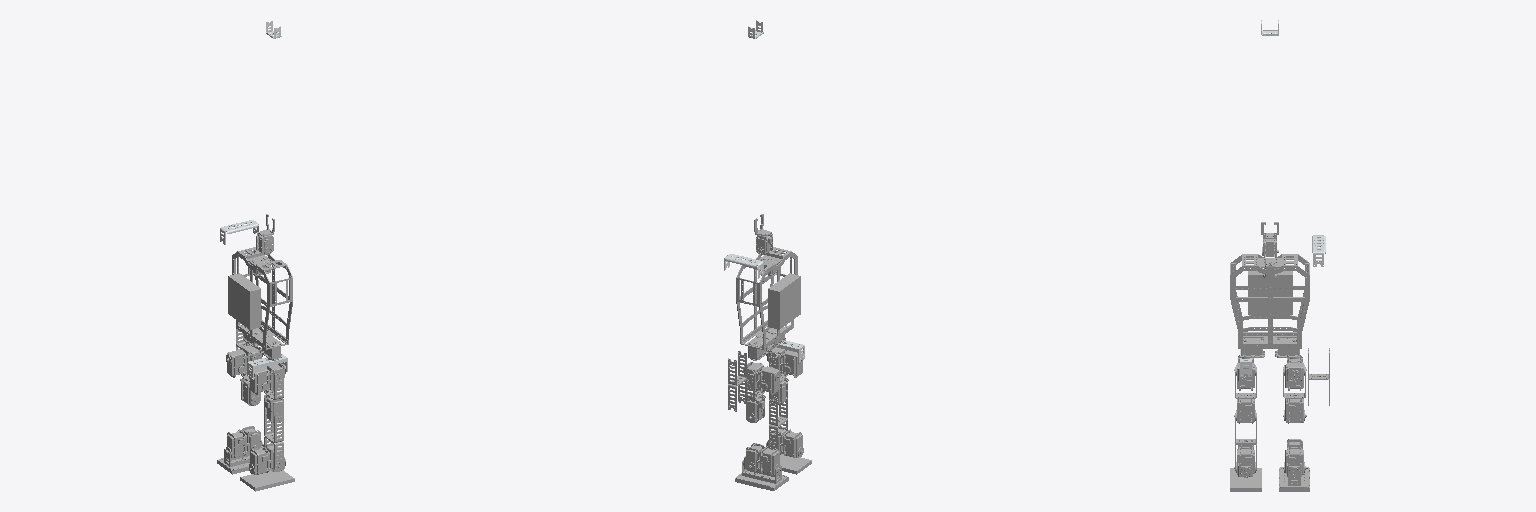
The robot description file, URDF, robot "biped":
<robot
  name="biped">
  <link
    name="torso">
    <inertial>
      <origin
        xyz="-0.032427 -7.3918E-11 -0.035454"
        rpy="0 0 0" />
      <mass
        value="1.5243" />
      <inertia
        ixx="0.0065088"
        ixy="1.2448E-11"
        ixz="0.00074863"
        iyy="0.0067767"
        iyz="1.2924E-11"
        izz="0.0023018" />
    </inertial>
    <visual>
      <origin
        xyz="0 0 0"
        rpy="0 0 0" />
      <geometry>
        <mesh
          filename="package://meshes/meshes_biped/torso.STL" />
      </geometry>
      <material
        name="">
        <color
          rgba="0.75294 0.75294 0.75294 1" />
      </material>
    </visual>
    <collision>
      <origin
        xyz="0 0 0"
        rpy="0 0 0" />
      <geometry>
        <mesh
          filename="package://meshes/meshes_biped/torso.STL" />
      </geometry>
    </collision>
    <contact>
      <lateral_friction value="1.0"/>
      <restitution value="0.5"/>
    </contact>
  </link>
  <link
    name="head_p">
    <inertial>
      <origin
        xyz="-5.5511E-17 5.5511E-17 -0.023536"
        rpy="0 0 0" />
      <mass
        value="0.0091975" />
      <inertia
        ixx="0"
        ixy="0"
        ixz="0"
        iyy="0"
        iyz="0"
        izz="0" />
    </inertial>
    <visual>
      <origin
        xyz="0 0 0"
        rpy="0 0 0" />
      <geometry>
        <mesh
          filename="package://meshes/meshes_biped/head_p.STL" />
      </geometry>
      <material
        name="">
        <color
          rgba="0.89804 0.91765 0.92941 1" />
      </material>
    </visual>
    <collision>
      <origin
        xyz="0 0 0"
        rpy="0 0 0" />
      <geometry>
        <mesh
          filename="package://meshes/meshes_biped/head_p.STL" />
      </geometry>
    </collision>
    <contact>
      <lateral_friction value="1.0"/>
      <restitution value="0.5"/>
    </contact>
  </link>
  <joint
    name="head_p"
    type="fixed">
    <origin
      xyz="0.0075 0 0.12157"
      rpy="6.713E-16 6.9212E-18 1.1102E-16" />
    <parent
      link="torso" />
    <child
      link="head_p" />
    <axis
      xyz="0 0 1" />
    <limit
      lower="-1.57"
      upper="1.57"
      effort="16"
      velocity="3" />
  </joint>
  <link
    name="head_t">
    <inertial>
      <origin
        xyz="0.00078184 2.0234E-05 0.016088"
        rpy="0 0 0" />
      <mass
        value="0.084099" />
      <inertia
        ixx="1.5435E-05"
        ixy="1.3296E-09"
        ixz="-2.5332E-06"
        iyy="1.5134E-05"
        iyz="5.1455E-08"
        izz="1.5241E-06" />
    </inertial>
    <visual>
      <origin
        xyz="0 0 0"
        rpy="0 0 0" />
      <geometry>
        <mesh
          filename="package://meshes/meshes_biped/head_t.STL" />
      </geometry>
      <material
        name="">
        <color
          rgba="0.75294 0.75294 0.75294 1" />
      </material>
    </visual>
    <collision>
      <origin
        xyz="0 0 0"
        rpy="0 0 0" />
      <geometry>
        <mesh
          filename="package://meshes/meshes_biped/head_t.STL" />
      </geometry>
    </collision>
    <contact>
      <lateral_friction value="1.0"/>
      <restitution value="0.5"/>
    </contact>
  </link>
  <joint
    name="j_head_t"
    type="fixed">
    <origin
      xyz="0 -0.00025 0"
      rpy="1.4381E-16 -9.993E-17 -7.2164E-16" />
    <parent
      link="head_p" />
    <child
      link="head_t" />
    <axis
      xyz="0 1 0" />
    <limit
      lower="-1.57"
      upper="1.57"
      effort="16"
      velocity="3" />
  </joint>
  <link
    name="leg_r_hip_y">
    <inertial>
      <origin
        xyz="-0.02001 -2.7756E-17 0.028495"
        rpy="0 0 0" />
      <mass
        value="0.044523" />
      <inertia
        ixx="0"
        ixy="0"
        ixz="0"
        iyy="0"
        iyz="0"
        izz="0" />
    </inertial>
    <visual>
      <origin
        xyz="0 0 0"
        rpy="0 0 0" />
      <geometry>
        <mesh
          filename="package://meshes/meshes_biped/leg_r_hip_y.STL" />
      </geometry>
      <material
        name="">
        <color
          rgba="0.89804 0.91765 0.92941 1" />
      </material>
    </visual>
    <collision>
      <origin
        xyz="0 0 0"
        rpy="0 0 0" />
      <geometry>
        <mesh
          filename="package://meshes/meshes_biped/leg_r_hip_y.STL" />
      </geometry>
    </collision>
    <contact>
      <lateral_friction value="1.0"/>
      <restitution value="0.5"/>
    </contact>
  </link>
  <joint
    name="r_hip_y"
    type="revolute">
    <origin
      xyz="0 -0.06125 -0.2124"
      rpy="-5.4531E-16 3.0739E-17 -1.6653E-16" />
    <parent
      link="torso" />
    <child
      link="leg_r_hip_y" />
    <axis
      xyz="0 0 -1" />
    <limit
      lower="-1.57"
      upper="1.57"
      effort="16"
      velocity="3" />
  </joint>
  <link
    name="leg_r_hip_r">
    <inertial>
      <origin
        xyz="-0.019939 8.1869E-05 -0.014803"
        rpy="0 0 0" />
      <mass
        value="0.32716" />
      <inertia
        ixx="7.626E-06"
        ixy="-5.5849E-07"
        ixz="-1.0679E-05"
        iyy="0.00018621"
        iyz="-1.5134E-06"
        izz="0.0001855" />
    </inertial>
    <visual>
      <origin
        xyz="0 0 0"
        rpy="0 0 0" />
      <geometry>
        <mesh
          filename="package://meshes/meshes_biped/leg_r_hip_r.STL" />
      </geometry>
      <material
        name="">
        <color
          rgba="0.75294 0.75294 0.75294 1" />
      </material>
    </visual>
    <collision>
      <origin
        xyz="0 0 0"
        rpy="0 0 0" />
      <geometry>
        <mesh
          filename="package://meshes/meshes_biped/leg_r_hip_r.STL" />
      </geometry>
    </collision>
    <contact>
      <lateral_friction value="1.0"/>
      <restitution value="0.5"/>
    </contact>
  </link>
  <joint
    name="r_hip_r"
    type="revolute">
    <origin
      xyz="0 0 0"
      rpy="-3.9136E-16 4.0824E-19 5.5511E-17" />
    <parent
      link="leg_r_hip_y" />
    <child
      link="leg_r_hip_r" />
    <axis
      xyz="1 0 0" />
    <limit
      lower="-1.57"
      upper="1.57"
      effort="16"
      velocity="3" />
  </joint>
  <link
    name="leg_r_hip_p">
    <inertial>
      <origin
        xyz="-4.7361E-05 0.00014667 -0.10143"
        rpy="0 0 0" />
      <mass
        value="0.18783" />
      <inertia
        ixx="9.8966E-05"
        ixy="-1.5606E-09"
        ixz="2.1853E-07"
        iyy="9.6525E-05"
        iyz="1.7817E-06"
        izz="2.459E-06" />
    </inertial>
    <visual>
      <origin
        xyz="0 0 0"
        rpy="0 0 0" />
      <geometry>
        <mesh
          filename="package://meshes/meshes_biped/leg_r_hip_p.STL" />
      </geometry>
      <material
        name="">
        <color
          rgba="0.75294 0.75294 0.75294 1" />
      </material>
    </visual>
    <collision>
      <origin
        xyz="0 0 0"
        rpy="0 0 0" />
      <geometry>
        <mesh
          filename="package://meshes/meshes_biped/leg_r_hip_p.STL" />
      </geometry>
    </collision>
    <contact>
      <lateral_friction value="1.0"/>
      <restitution value="0.5"/>
    </contact>
  </link>
  <joint
    name="r_hip_p"
    type="revolute">
    <origin
      xyz="0 0 0"
      rpy="1.4362E-16 7.3309E-16 -1.1102E-16" />
    <parent
      link="leg_r_hip_r" />
    <child
      link="leg_r_hip_p" />
    <axis
      xyz="0 -1 0" />
    <limit
      lower="-1.57"
      upper="1.57"
      effort="16"
      velocity="3" />
  </joint>
  <link
    name="leg_r_knee">
    <inertial>
      <origin
        xyz="6.1062E-16 6.9389E-17 -0.072"
        rpy="0 0 0" />
      <mass
        value="0.047124" />
      <inertia
        ixx="3.4724E-05"
        ixy="1.6941E-21"
        ixz="6.3842E-20"
        iyy="3.4724E-05"
        iyz="-1.1327E-08"
        izz="3.6947E-12" />
    </inertial>
    <visual>
      <origin
        xyz="0 0 0"
        rpy="0 0 0" />
      <geometry>
        <mesh
          filename="package://meshes/meshes_biped/leg_r_knee.STL" />
      </geometry>
      <material
        name="">
        <color
          rgba="0.75294 0.75294 0.75294 1" />
      </material>
    </visual>
    <collision>
      <origin
        xyz="0 0 0"
        rpy="0 0 0" />
      <geometry>
        <mesh
          filename="package://meshes/meshes_biped/leg_r_knee.STL" />
      </geometry>
    </collision>
    <contact>
      <lateral_friction value="1.0"/>
      <restitution value="0.5"/>
    </contact>
  </link>
  <joint
    name="r_knee"
    type="revolute">
    <origin
      xyz="0 0 -0.1265"
      rpy="-1.3878E-16 -6.6613E-16 5.5511E-17" />
    <parent
      link="leg_r_hip_p" />
    <child
      link="leg_r_knee" />
    <axis
      xyz="0 -1 0" />
    <limit
      lower="-1.57"
      upper="1.57"
      effort="16"
      velocity="3" />
  </joint>
  <link
    name="leg_r_ankle_p">
    <inertial>
      <origin
        xyz="-0.019968 8.5312E-05 0.014812"
        rpy="0 0 0" />
      <mass
        value="0.32697" />
      <inertia
        ixx="7.5839E-06"
        ixy="-5.3256E-07"
        ixz="1.0555E-05"
        iyy="0.00018576"
        iyz="1.5122E-06"
        izz="0.00018509" />
    </inertial>
    <visual>
      <origin
        xyz="0 0 0"
        rpy="0 0 0" />
      <geometry>
        <mesh
          filename="package://meshes/meshes_biped/leg_r_ankle_p.STL" />
      </geometry>
      <material
        name="">
        <color
          rgba="0.75294 0.75294 0.75294 1" />
      </material>
    </visual>
    <collision>
      <origin
        xyz="0 0 0"
        rpy="0 0 0" />
      <geometry>
        <mesh
          filename="package://meshes/meshes_biped/leg_r_ankle_p.STL" />
      </geometry>
    </collision>
    <contact>
      <lateral_friction value="1.0"/>
      <restitution value="0.5"/>
    </contact>
  </link>
  <joint
    name="r_ankle_p"
    type="revolute">
    <origin
      xyz="0 0 -0.144"
      rpy="7.6328E-17 1.1102E-15 -5.5511E-16" />
    <parent
      link="leg_r_knee" />
    <child
      link="leg_r_ankle_p" />
    <axis
      xyz="0 1 0" />
    <limit
      lower="-1.57"
      upper="1.57"
      effort="16"
      velocity="3" />
  </joint>
  <link
    name="leg_r_ankle_r">
    <inertial>
      <origin
        xyz="-0.02 1.1102E-16 -0.034645"
        rpy="0 0 0" />
      <mass
        value="0.10036" />
      <inertia
        ixx="3.027E-06"
        ixy="-1.0588E-22"
        ixz="-3.7392E-20"
        iyy="3.027E-06"
        iyz="3.9343E-20"
        izz="1.0081E-33" />
    </inertial>
    <visual>
      <origin
        xyz="0 0 0"
        rpy="0 0 0" />
      <geometry>
        <mesh
          filename="package://meshes/meshes_biped/leg_r_ankle_r.STL" />
      </geometry>
      <material
        name="">
        <color
          rgba="0.75294 0.75294 0.75294 1" />
      </material>
    </visual>
    <collision>
      <origin
        xyz="0 0 0"
        rpy="0 0 0" />
      <geometry>
        <mesh
          filename="package://meshes/meshes_biped/leg_r_ankle_r.STL" />
      </geometry>
    </collision>
    <contact>
      <lateral_friction value="1.0"/>
      <restitution value="0.5"/>
    </contact>
  </link>
  <joint
    name="r_ankle_r"
    type="revolute">
    <origin
      xyz="0 0 0"
      rpy="1.6422E-17 -2.1481E-15 -6.1062E-16" />
    <parent
      link="leg_r_ankle_p" />
    <child
      link="leg_r_ankle_r" />
    <axis
      xyz="-1 0 0" />
    <limit
      lower="-1.57"
      upper="1.57"
      effort="16"
      velocity="3" />
  </joint>
  <link
    name="leg_r_foot">
    <inertial>
      <origin
        xyz="0 0 0"
        rpy="0 0 0" />
      <mass
        value="0" />
      <inertia
        ixx="0"
        ixy="0"
        ixz="0"
        iyy="0"
        iyz="0"
        izz="0" />
    </inertial>
    <visual>
      <origin
        xyz="0 0 0"
        rpy="0 0 0" />
      <geometry>
        <box size="0.12 0.08 0.01"/>
      </geometry>
      <material
        name="">
        <color
          rgba="0.75294 0.75294 0.75294 1" />
      </material>
    </visual>
    <collision>
      <origin
        xyz="0 0 0"
        rpy="0 0 0" />
      <geometry>
        <box size="0.12 0.08 0.01"/>
      </geometry>
    </collision>
    <contact>
      <lateral_friction value="1.0"/>
      <restitution value="0.5"/>
    </contact>
  </link>
  <joint
    name="r_foot"
    type="fixed">
    <origin
      xyz="-0.02 0 -0.0425"
      rpy="0 0 0" />
    <parent
      link="leg_r_ankle_r" />
    <child
      link="leg_r_foot" />
  </joint>

  <link
    name="leg_l_hip_y">
    <inertial>
      <origin
        xyz="-0.02001 -2.7756E-17 0.028495"
        rpy="0 0 0" />
      <mass
        value="0.044523" />
      <inertia
        ixx="0"
        ixy="0"
        ixz="0"
        iyy="0"
        iyz="0"
        izz="0" />
    </inertial>
    <visual>
      <origin
        xyz="0 0 0"
        rpy="0 0 0" />
      <geometry>
        <mesh
          filename="package://meshes/meshes_biped/leg_l_hip_y.STL" />
      </geometry>
      <material
        name="">
        <color
          rgba="0.89804 0.91765 0.92941 1" />
      </material>
    </visual>
    <collision>
      <origin
        xyz="0 0 0"
        rpy="0 0 0" />
      <geometry>
        <mesh
          filename="package://meshes/meshes_biped/leg_l_hip_y.STL" />
      </geometry>
    </collision>
    <contact>
      <lateral_friction value="1.0"/>
      <restitution value="0.5"/>
    </contact>
  </link>
  <joint
    name="l_hip_y"
    type="revolute">
    <origin
      xyz="1E-05 0.06125 -0.2124"
      rpy="2.9156E-16 -1.8495E-16 -6.6058E-15" />
    <parent
      link="torso" />
    <child
      link="leg_l_hip_y" />
    <axis
      xyz="0 0 -1" />
    <limit
      lower="-1.57"
      upper="1.57"
      effort="16"
      velocity="3" />
  </joint>
  <link
    name="leg_l_hip_r">
    <inertial>
      <origin
        xyz="-0.019942 -8.5263E-05 -0.014803"
        rpy="0 0 0" />
      <mass
        value="0.32716" />
      <inertia
        ixx="7.6258E-06"
        ixy="5.3184E-07"
        ixz="-1.068E-05"
        iyy="0.00018616"
        iyz="1.5119E-06"
        izz="0.00018545" />
    </inertial>
    <visual>
      <origin
        xyz="0 0 0"
        rpy="0 0 0" />
      <geometry>
        <mesh
          filename="package://meshes/meshes_biped/leg_l_hip_r.STL" />
      </geometry>
      <material
        name="">
        <color
          rgba="0.75294 0.75294 0.75294 1" />
      </material>
    </visual>
    <collision>
      <origin
        xyz="0 0 0"
        rpy="0 0 0" />
      <geometry>
        <mesh
          filename="package://meshes/meshes_biped/leg_l_hip_r.STL" />
      </geometry>
    </collision>
    <contact>
      <lateral_friction value="1.0"/>
      <restitution value="0.5"/>
    </contact>
  </link>
  <joint
    name="l_hip_r"
    type="revolute">
    <origin
      xyz="0 0 0"
      rpy="-1.6241E-15 -9.9242E-15 -5.5511E-17" />
    <parent
      link="leg_l_hip_y" />
    <child
      link="leg_l_hip_r" />
    <axis
      xyz="1 0 0" />
    <limit
      lower="-1.57"
      upper="1.57"
      effort="16"
      velocity="3" />
  </joint>
  <link
    name="leg_l_hip_p">
    <inertial>
      <origin
        xyz="-4.1448E-05 -0.00014445 -0.10143"
        rpy="0 0 0" />
      <mass
        value="0.18783" />
      <inertia
        ixx="9.8966E-05"
        ixy="8.6863E-10"
        ixz="2.2891E-07"
        iyy="9.6525E-05"
        iyz="-1.8053E-06"
        izz="2.4592E-06" />
    </inertial>
    <visual>
      <origin
        xyz="0 0 0"
        rpy="0 0 0" />
      <geometry>
        <mesh
          filename="package://meshes/meshes_biped/leg_l_hip_p.STL" />
      </geometry>
      <material
        name="">
        <color
          rgba="0.75294 0.75294 0.75294 1" />
      </material>
    </visual>
    <collision>
      <origin
        xyz="0 0 0"
        rpy="0 0 0" />
      <geometry>
        <mesh
          filename="package://meshes/meshes_biped/leg_l_hip_p.STL" />
      </geometry>
    </collision>
    <contact>
      <lateral_friction value="1.0"/>
      <restitution value="0.5"/>
    </contact>
  </link>
  <joint
    name="l_hip_p"
    type="revolute">
    <origin
      xyz="0 0 0"
      rpy="1.674E-15 7.4031E-14 1.1102E-16" />
    <parent
      link="leg_l_hip_r" />
    <child
      link="leg_l_hip_p" />
    <axis
      xyz="0 -1 0" />
    <limit
      lower="-1.57"
      upper="1.57"
      effort="16"
      velocity="3" />
  </joint>
  <link
    name="leg_l_knee">
    <inertial>
      <origin
        xyz="6.1062E-16 -2.7756E-17 -0.072"
        rpy="0 0 0" />
      <mass
        value="0.047124" />
      <inertia
        ixx="3.4724E-05"
        ixy="8.4703E-22"
        ixz="7.2051E-20"
        iyy="3.4724E-05"
        iyz="-1.1327E-08"
        izz="3.6947E-12" />
    </inertial>
    <visual>
      <origin
        xyz="0 0 0"
        rpy="0 0 0" />
      <geometry>
        <mesh
          filename="package://meshes/meshes_biped/leg_l_knee.STL" />
      </geometry>
      <material
        name="">
        <color
          rgba="0.75294 0.75294 0.75294 1" />
      </material>
    </visual>
    <collision>
      <origin
        xyz="0 0 0"
        rpy="0 0 0" />
      <geometry>
        <mesh
          filename="package://meshes/meshes_biped/leg_l_knee.STL" />
      </geometry>
    </collision>
    <contact>
      <lateral_friction value="1.0"/>
      <restitution value="0.5"/>
    </contact>
  </link>
  <joint
    name="l_knee"
    type="revolute">
    <origin
      xyz="0 0 -0.1265"
      rpy="1.9993E-16 -6.4219E-14 0" />
    <parent
      link="leg_l_hip_p" />
    <child
      link="leg_l_knee" />
    <axis
      xyz="0 -1 0" />
    <limit
      lower="-1.57"
      upper="1.57"
      effort="16"
      velocity="3" />
  </joint>
  <link
    name="leg_l_ankle_p">
    <inertial>
      <origin
        xyz="-0.019964 -8.1917E-05 0.014812"
        rpy="0 0 0" />
      <mass
        value="0.32697" />
      <inertia
        ixx="7.5841E-06"
        ixy="5.5918E-07"
        ixz="1.0554E-05"
        iyy="0.0001858"
        iyz="-1.5137E-06"
        izz="0.00018513" />
    </inertial>
    <visual>
      <origin
        xyz="0 0 0"
        rpy="0 0 0" />
      <geometry>
        <mesh
          filename="package://meshes/meshes_biped/leg_l_ankle_p.STL" />
      </geometry>
      <material
        name="">
        <color
          rgba="0.75294 0.75294 0.75294 1" />
      </material>
    </visual>
    <collision>
      <origin
        xyz="0 0 0"
        rpy="0 0 0" />
      <geometry>
        <mesh
          filename="package://meshes/meshes_biped/leg_l_ankle_p.STL" />
      </geometry>
    </collision>
    <contact>
      <lateral_friction value="1.0"/>
      <restitution value="0.5"/>
    </contact>
  </link>
  <joint
    name="l_ankle_p"
    type="revolute">
    <origin
      xyz="0 0 -0.144"
      rpy="3.5172E-16 8.6649E-16 3.8858E-16" />
    <parent
      link="leg_l_knee" />
    <child
      link="leg_l_ankle_p" />
    <axis
      xyz="0 1 0" />
    <limit
      lower="-1.57"
      upper="1.57"
      effort="16"
      velocity="3" />
  </joint>
  <link
    name="leg_l_ankle_r">
    <inertial>
      <origin
        xyz="-0.02 -5.5511E-17 -0.034645"
        rpy="0 0 0" />
      <mass
        value="0.10036" />
      <inertia
        ixx="3.027E-06"
        ixy="0"
        ixz="3.2225E-20"
        iyy="3.027E-06"
        iyz="8.1613E-21"
        izz="6.4314E-34" />
    </inertial>
    <visual>
      <origin
        xyz="0 0 0"
        rpy="0 0 0" />
      <geometry>
        <mesh
          filename="package://meshes/meshes_biped/leg_l_ankle_r.STL" />
      </geometry>
      <material
        name="">
        <color
          rgba="0.75294 0.75294 0.75294 1" />
      </material>
    </visual>
    <collision>
      <origin
        xyz="0 0 0"
        rpy="0 0 0" />
      <geometry>
        <mesh
          filename="package://meshes/meshes_biped/leg_l_ankle_r.STL" />
      </geometry>
    </collision>
    <contact>
      <lateral_friction value="1.0"/>
      <restitution value="0.5"/>
    </contact>
  </link>
  <joint
    name="l_ankle_r"
    type="revolute">
    <origin
      xyz="0 0 0"
      rpy="6.5861E-17 -2.1529E-15 -3.0087E-14" />
    <parent
      link="leg_l_ankle_p" />
    <child
      link="leg_l_ankle_r" />
    <axis
      xyz="-1 0 0" />
    <limit
      lower="-1.57"
      upper="1.57"
      effort="16"
      velocity="3" />
  </joint>
<link
    name="leg_l_foot">
    <inertial>
      <origin
        xyz="0 0 0"
        rpy="0 0 0" />
      <mass
        value="0" />
      <inertia
        ixx="0"
        ixy="0"
        ixz="0"
        iyy="0"
        iyz="0"
        izz="0" />
    </inertial>
    <visual>
      <origin
        xyz="0 0 0"
        rpy="0 0 0" />
      <geometry>
        <box size="0.12 0.08 0.01"/>
      </geometry>
      <material
        name="">
        <color
          rgba="0.75294 0.75294 0.75294 1" />
      </material>
    </visual>
    <collision>
      <origin
        xyz="0 0 0"
        rpy="0 0 0" />
      <geometry>
        <box size="0.12 0.08 0.01"/>
      </geometry>
    </collision>
    <contact>
      <lateral_friction value="1.0"/>
      <restitution value="0.5"/>
    </contact>
  </link>
  <joint
    name="l_foot"
    type="fixed">
    <origin
      xyz="-0.02 0 -0.0425"
      rpy="0 0 0" />
    <parent
      link="leg_l_ankle_r" />
    <child
      link="leg_l_foot" />
  </joint>
</robot>

--- Render facts (derived) ---
The picture shows the robot from 3 angles, left to right: view 1: azimuth 30°, elevation 25°; view 2: azimuth 150°, elevation 25°; view 3: azimuth 270°, elevation 25°; orthographic projection.
Model biped with 17 links and 16 joints (12 revolute, 4 fixed), rooted at torso, posed every joint at zero.
Links seen in each view (by area): view 1: torso, leg_l_ankle_p, leg_r_ankle_p, leg_r_hip_r, leg_r_foot, leg_l_hip_r, leg_r_hip_p, leg_r_knee; view 2: torso, leg_l_ankle_p, leg_l_knee, leg_l_hip_r, leg_r_ankle_p, leg_r_hip_r, leg_l_hip_p, leg_l_ankle_r, leg_r_knee; view 3: torso, leg_l_hip_p, leg_l_ankle_p, leg_r_hip_p, leg_l_hip_r, leg_r_foot, leg_r_ankle_p.
Link boxes in pixels (x1,y1,x2,y2): torso: (228, 247, 292, 360); leg_l_ankle_p: (226, 426, 262, 457); leg_r_ankle_p: (249, 443, 285, 474); leg_r_hip_r: (249, 363, 285, 394); leg_r_foot: (240, 470, 294, 491); leg_l_hip_r: (226, 345, 262, 377); leg_r_hip_p: (264, 373, 283, 422); leg_r_knee: (264, 416, 283, 468); torso: (736, 247, 800, 360); leg_l_ankle_p: (743, 443, 780, 474); leg_l_knee: (728, 351, 746, 411); leg_l_hip_r: (743, 362, 780, 394); leg_r_ankle_p: (766, 426, 803, 457); leg_r_hip_r: (766, 347, 802, 377); leg_l_hip_p: (746, 373, 765, 422); leg_l_ankle_r: (736, 461, 787, 488); leg_r_knee: (769, 399, 787, 449); torso: (1230, 254, 1309, 358); leg_l_hip_p: (1283, 367, 1306, 423); leg_l_ankle_p: (1283, 439, 1306, 476); leg_r_hip_p: (1234, 367, 1256, 423); leg_l_hip_r: (1283, 355, 1306, 390); leg_r_foot: (1230, 468, 1261, 491); leg_r_ankle_p: (1234, 445, 1255, 477).
Bounding box of the posed robot: 0.1325 × 0.2517 × 1.3 m (x, y, z).
Meshes: 15 distinct files referenced, 14 mesh visuals loaded (14 binary STL); not drawn: 1 (reference not matched to a file when rendering).